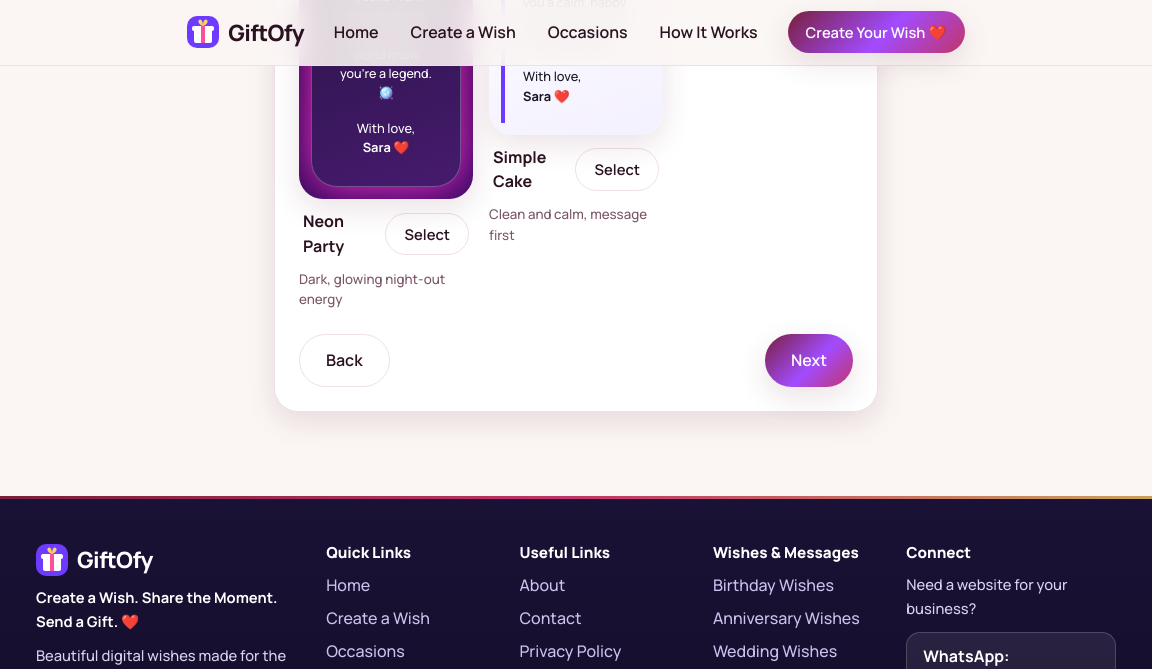
it: publish path with the real Supabase client › a database rejection is reported as a publish failure, not as "unavailable"
(page scrolled)
Click the button "Next" at (809,360), box [765,334,853,387]
(page scrolled)
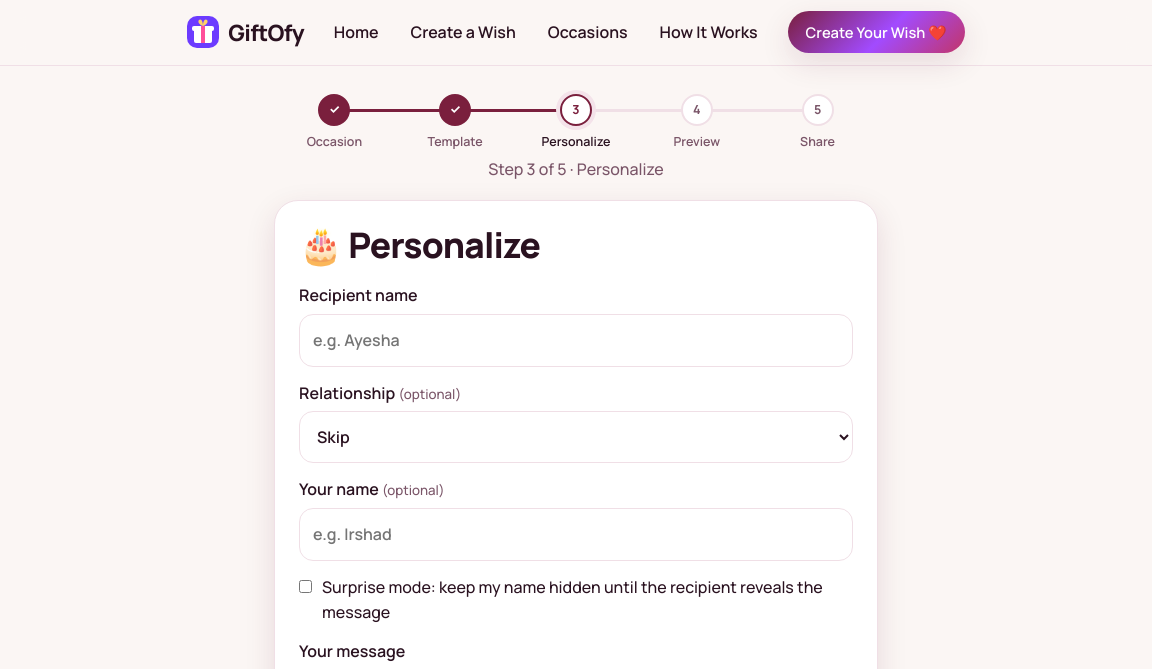
Type "Ayesha" into the field labelled "Recipient name" at (576,340), box [299,314,853,367]
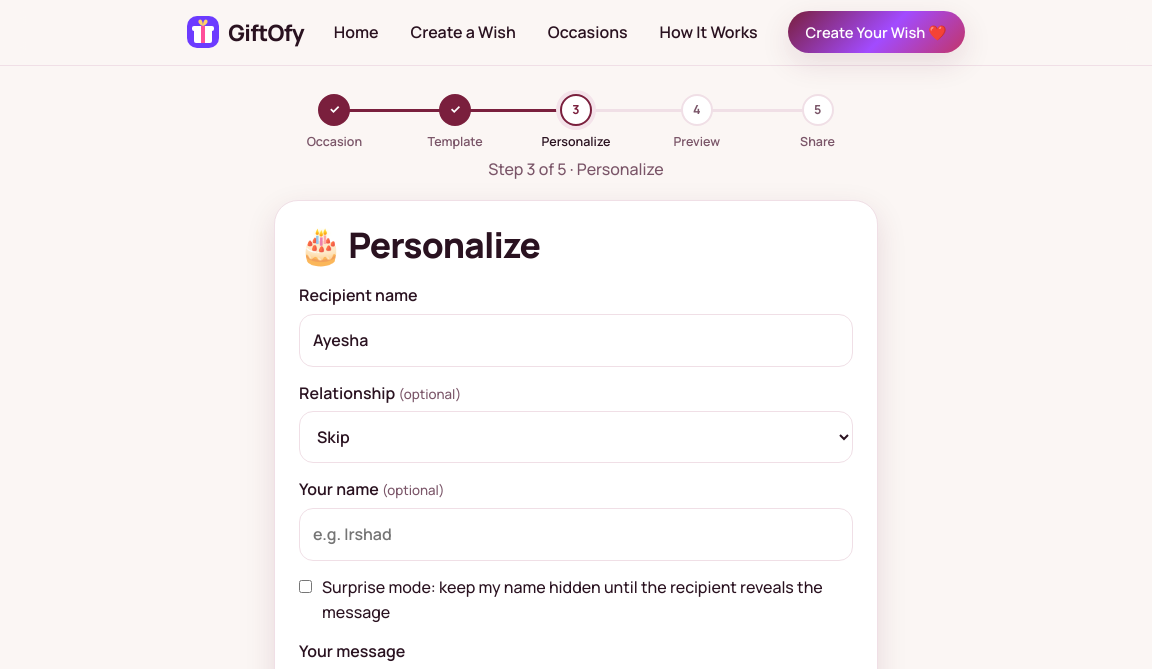
Type "Irshad" into the field labelled "Your name (optional)" at (576,535), box [299,508,853,561]
(page scrolled)
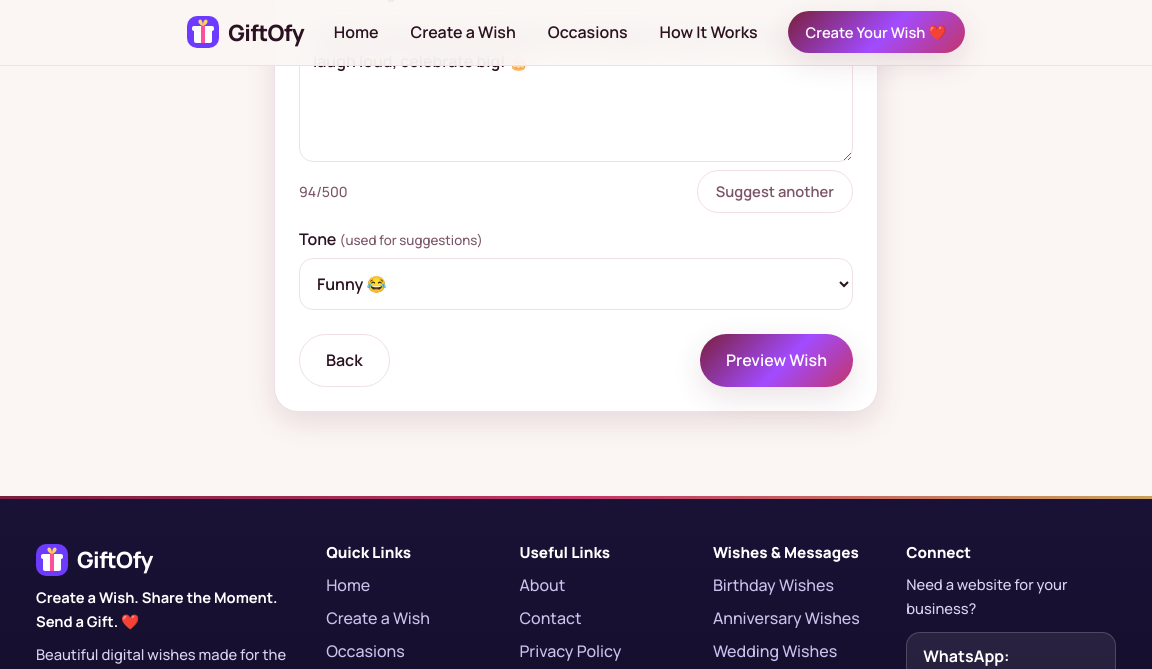
Click the button "Preview Wish" at (777,360), box [700,334,853,387]
(page scrolled)
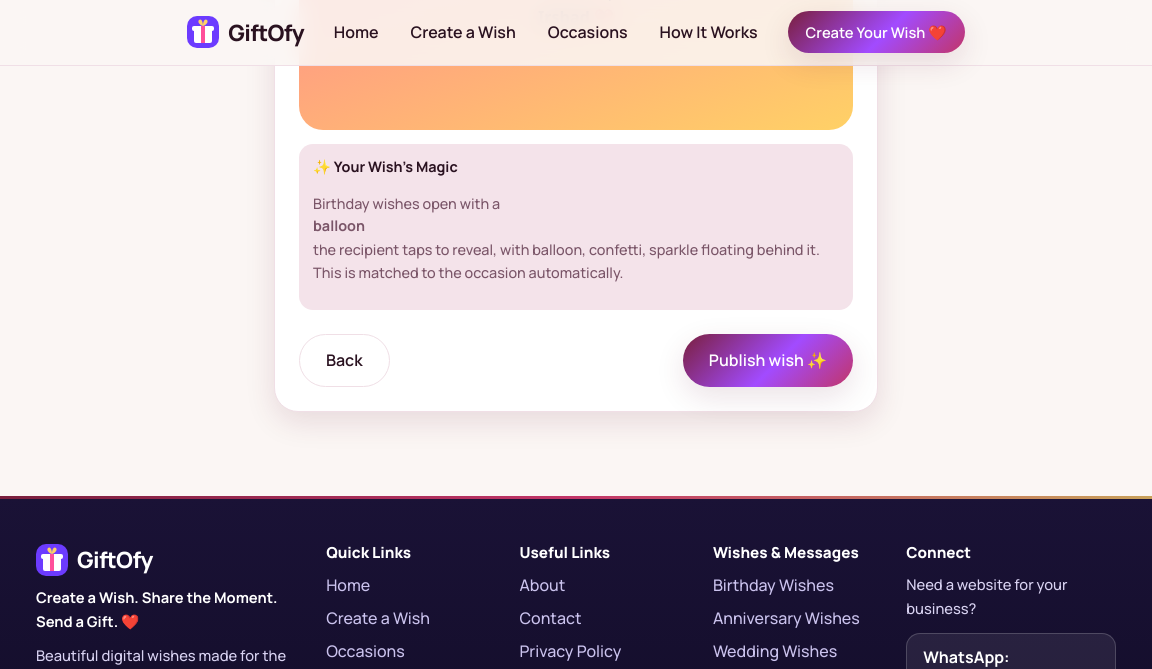
Click the button "Publish wish ✨" at (768,361), box [683,334,853,387]
(page scrolled)
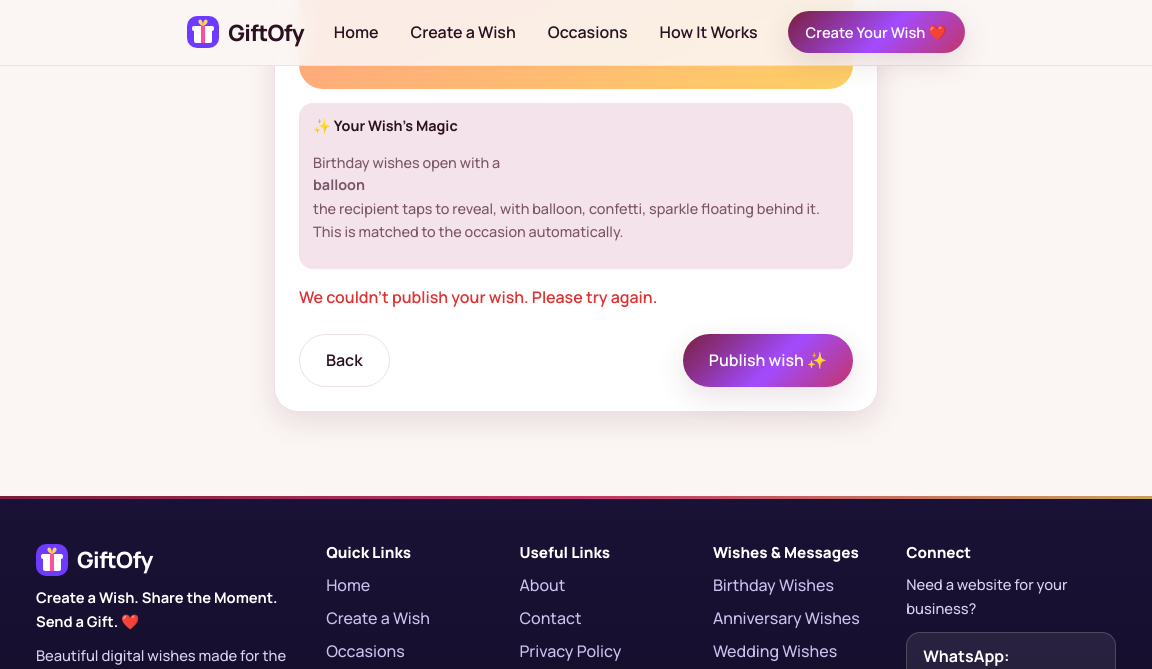
Now the text "We couldn’t publish your wish. Please try again." is shown, box [299,286,657,308]
